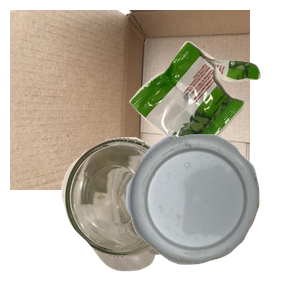cardboard: (10, 10, 250, 190)
glass: (59, 135, 254, 300)
plastic: (124, 132, 300, 300)
trash: (127, 39, 300, 193)
